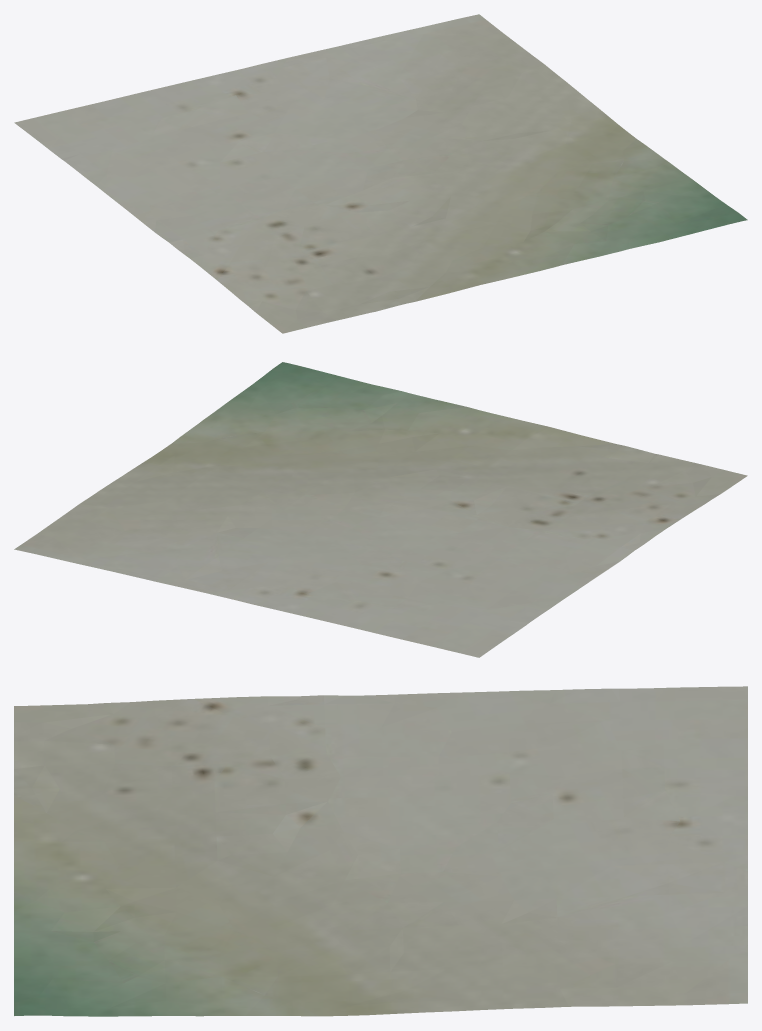
The picture shows the model from 3 angles, top to bottom: view 1: azimuth 30°, elevation 25°; view 2: azimuth 150°, elevation 25°; view 3: azimuth 270°, elevation 25°; orthographic projection. The views are drawn at different scales.
Size of the model in its own units: 52.22 by 1.64 by 52.22.
Materials: 2 (2 with a texture image).
